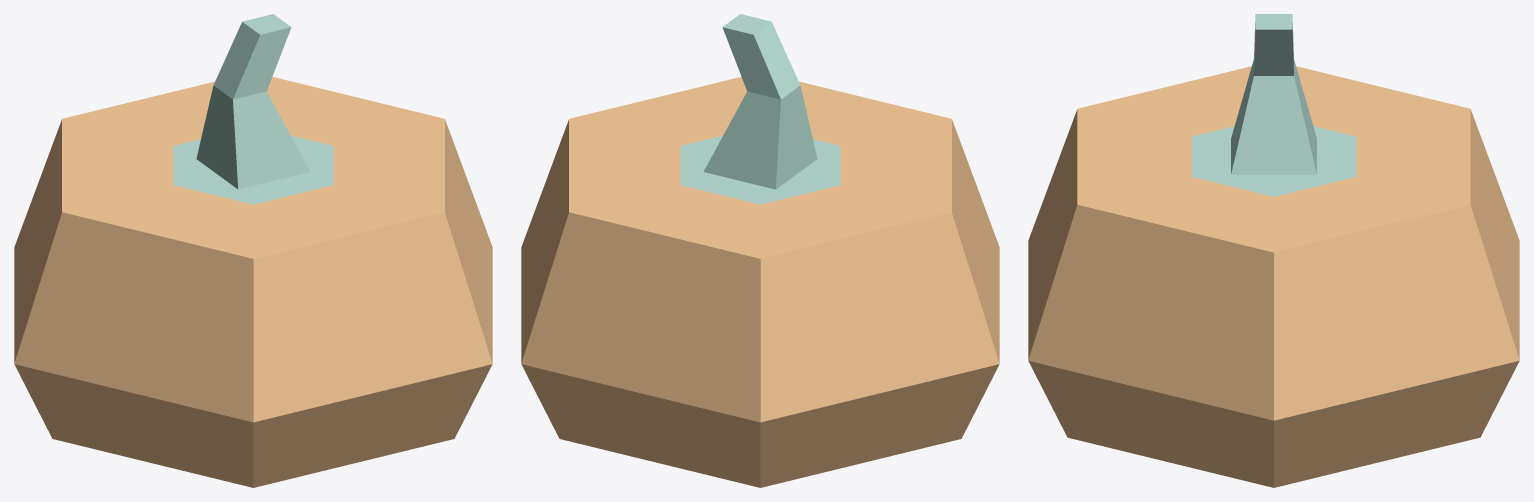
Rendered from pumpkin.glb.
The picture shows the model from 3 angles, left to right: view 1: azimuth 30°, elevation 25°; view 2: azimuth 150°, elevation 25°; view 3: azimuth 270°, elevation 25°; orthographic projection. The views are drawn at different scales.
Parts seen in each view (by area): view 1: pumpkin(Clone); view 2: pumpkin(Clone); view 3: pumpkin(Clone).
Part boxes in pixels (x1=…): pumpkin(Clone): x1=14, y1=14, x2=492, y2=487; pumpkin(Clone): x1=521, y1=14, x2=999, y2=487; pumpkin(Clone): x1=1028, y1=14, x2=1519, y2=487.
Bounding box in the file's own units: 0.357 × 0.2583 × 0.3092.
